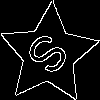S: (23, 29, 79, 85)
